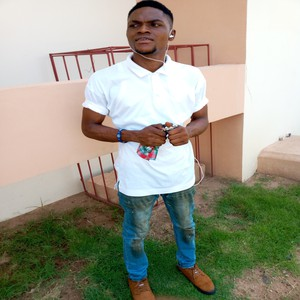Fulokoja_male_student: (115, 2, 215, 295)
